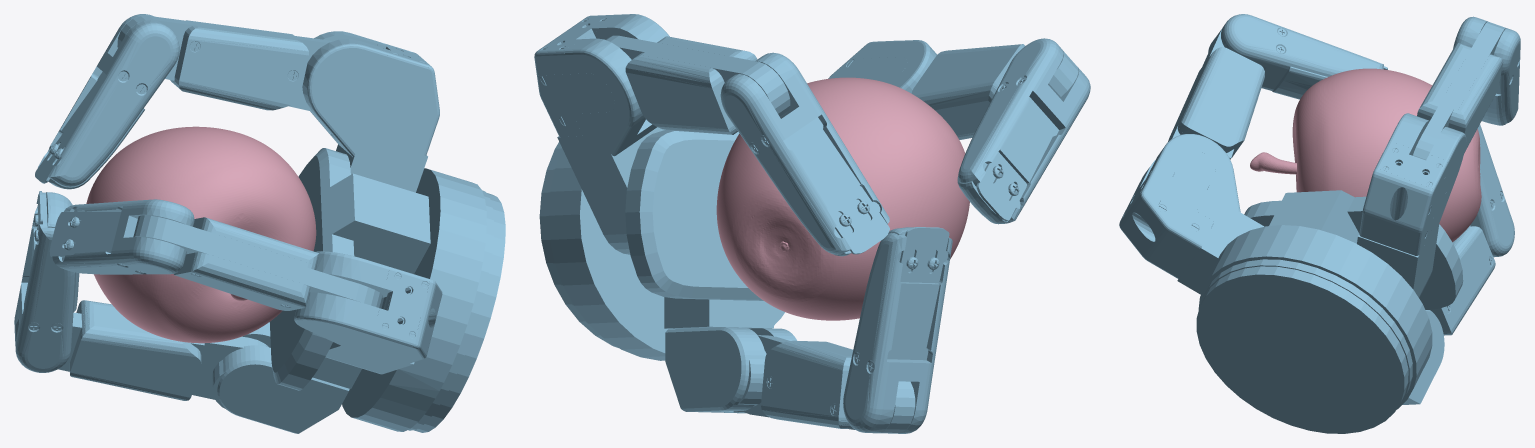
3 renders of one model, left to right at view 1: azimuth 30°, elevation 25°; view 2: azimuth 150°, elevation 25°; view 3: azimuth 270°, elevation 25°, orthographic. The views are drawn at different scales.
Parts seen in each view (by area): view 1: world; view 2: world; view 3: world.
Part boxes in pixels (x1,y1,x2,y2): world: (14, 14, 505, 433); world: (534, 14, 1090, 433); world: (1119, 14, 1520, 433).
Size of the model in its own units: 0.1667 by 0.147 by 0.1531.
